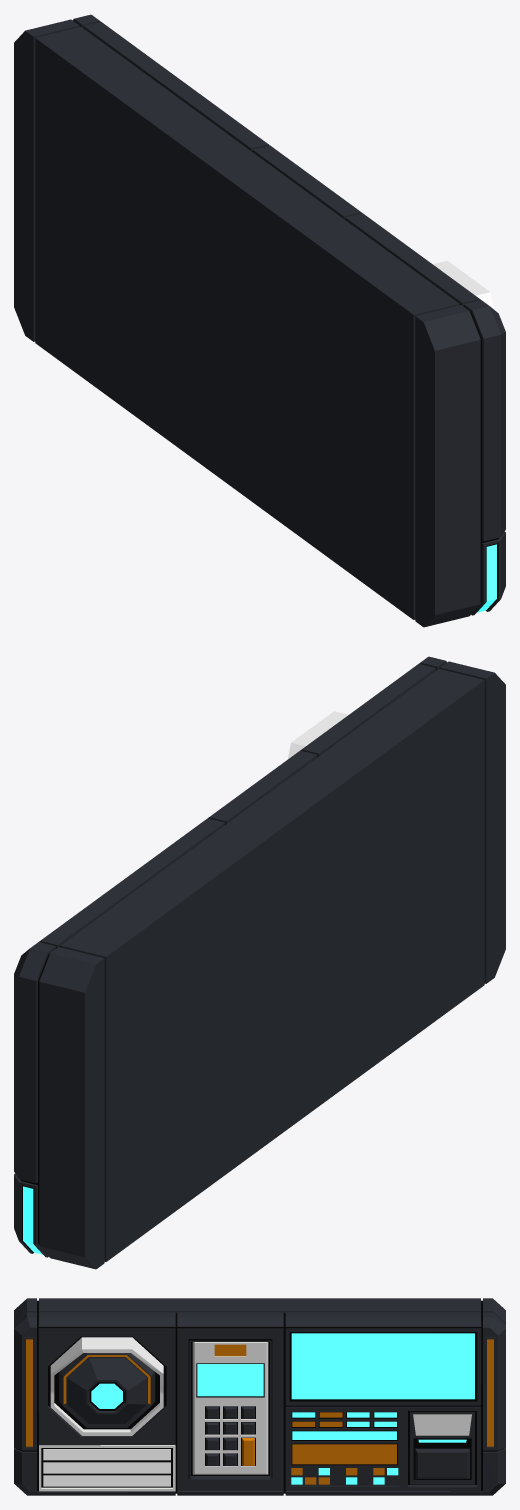
The model's file is SM_Wall_Security_Panel.fbx.
The picture shows the model from 3 angles, top to bottom: view 1: azimuth 30°, elevation 25°; view 2: azimuth 150°, elevation 25°; view 3: azimuth 270°, elevation 25°; orthographic projection. The views are drawn at different scales.
Visible parts, largest first — view 1: SM_Wall_Security_Panel; view 2: SM_Wall_Security_Panel; view 3: SM_Wall_Security_Panel.
Part boxes in pixels (left/top/right/bottom): SM_Wall_Security_Panel: left=14, top=14, right=505, bottom=627; SM_Wall_Security_Panel: left=14, top=656, right=505, bottom=1269; SM_Wall_Security_Panel: left=14, top=1298, right=505, bottom=1495.
Bounding box in the file's own units: 11.73 × 30 × 75.
